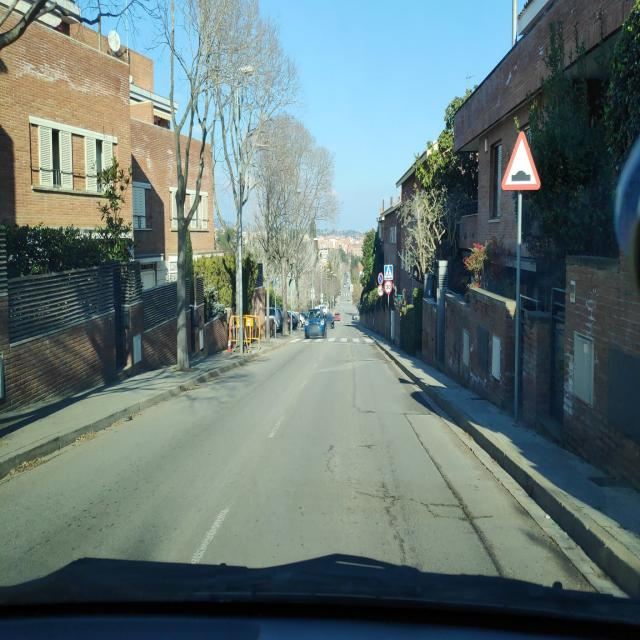forb_stopping: (378, 272, 383, 285)
